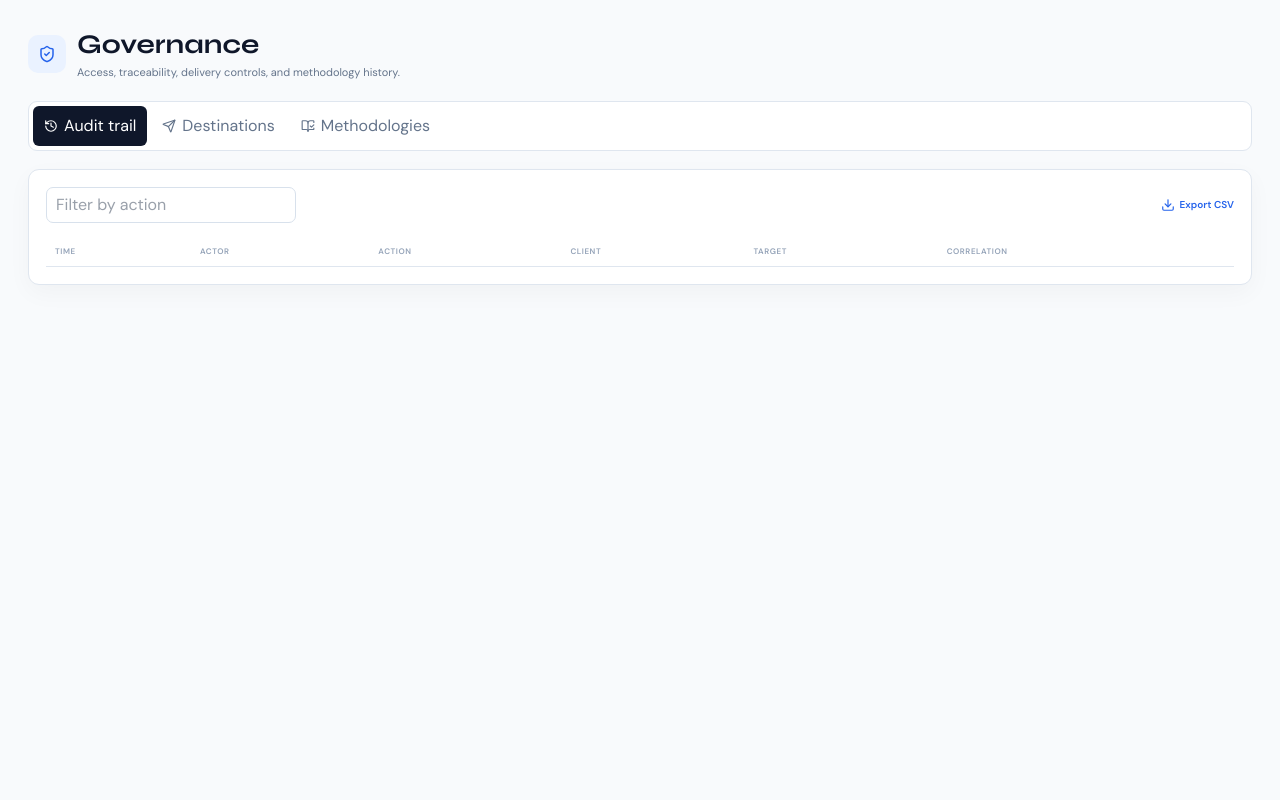
Test case: governance workspace › retains the governance destinations workspace
Step 1. Click the button "Destinations" → (218, 126), box [151,106,286,146]
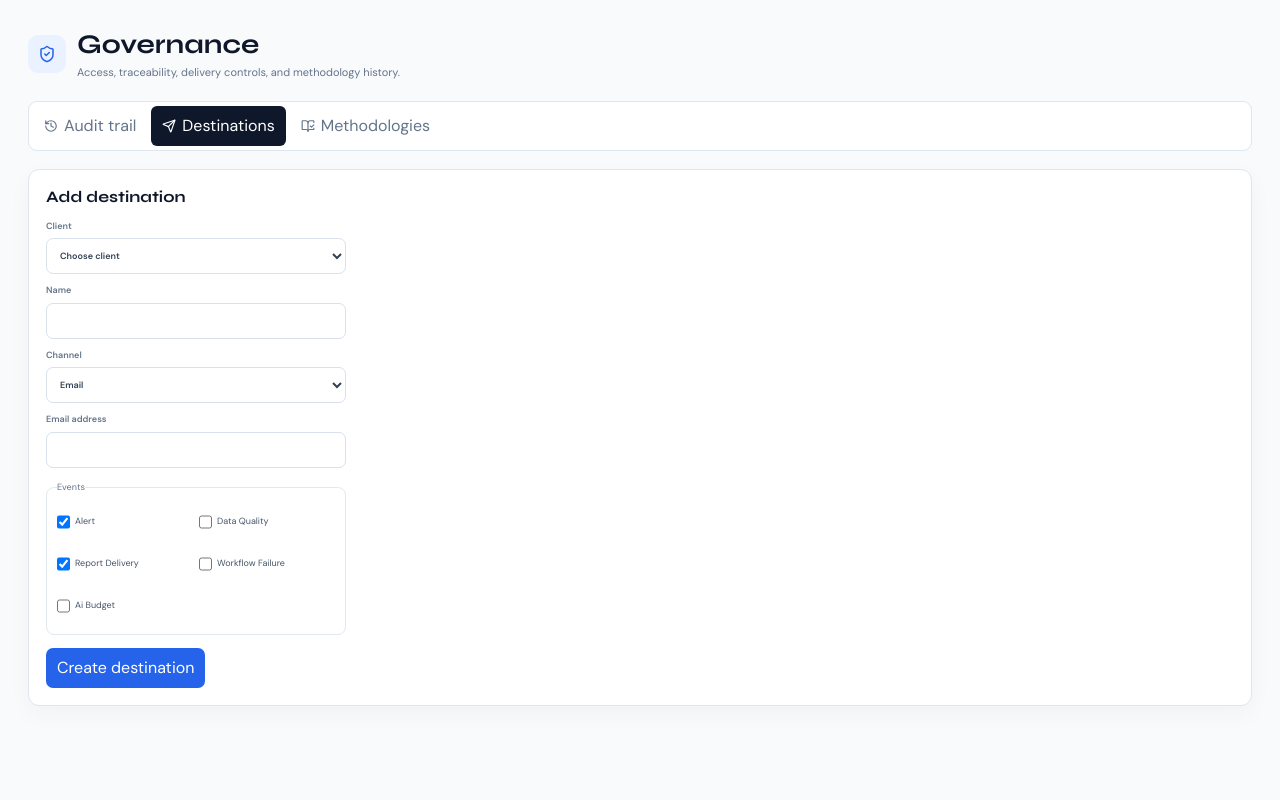
Check: the heading "Add destination" is shown, box [46,186,186,206]
